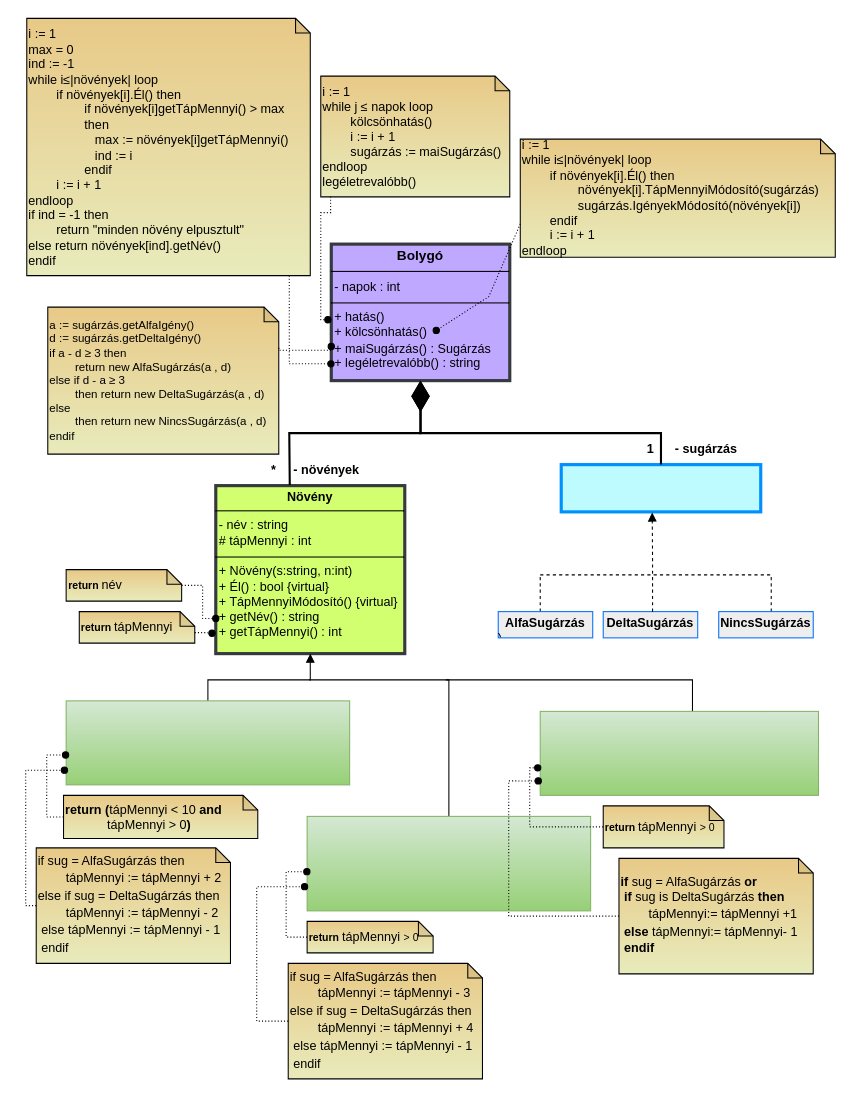
The diagram is 854 pixels wide and 1097 high, and some of its shapes have lost their labels. The shapes that lost their labels are listed below. From the top down, each one's centre as x and y in pixels, then its label:
At pixel 660 488: "<<interface>> Sugárzás".
At pixel 207 742: "Puffancs + Él() : bool {override} + TápMennyMódosító(sug : Sugárzás) {override}".
At pixel 678 752: "Parabokor + Él() : bool {override} + TápMennyMódosító(sug : Sugárzás) {override}".
At pixel 448 863: "Deltafa + Él() : bool {override} + TápMennyMódosító(sug : Sugárzás) {override}".
